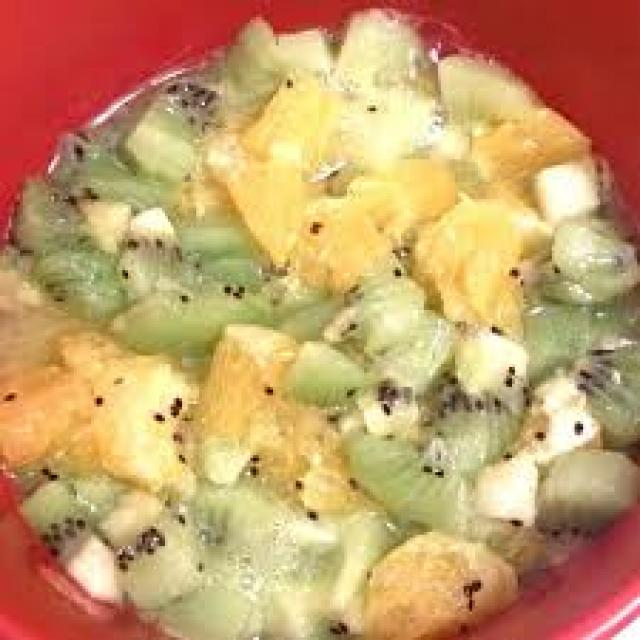organic waste: (140, 489, 342, 637), (100, 190, 284, 350), (208, 68, 324, 250), (290, 156, 455, 282), (524, 278, 638, 444), (409, 182, 524, 339), (188, 318, 296, 478), (111, 253, 270, 356), (364, 529, 515, 634), (8, 174, 122, 310), (0, 242, 119, 370), (296, 501, 404, 637), (86, 352, 196, 483), (299, 373, 418, 492), (43, 322, 134, 472), (330, 270, 452, 381), (342, 430, 472, 529), (114, 68, 222, 176), (324, 83, 464, 162), (529, 441, 637, 543), (464, 102, 594, 185), (0, 358, 91, 475), (111, 498, 208, 600), (54, 134, 182, 210), (432, 43, 538, 131), (219, 14, 333, 94), (436, 370, 524, 472), (330, 6, 435, 85), (541, 216, 637, 302), (504, 367, 592, 458), (441, 304, 523, 401), (60, 529, 134, 623), (469, 515, 586, 574), (526, 150, 612, 224), (23, 472, 102, 552), (578, 342, 637, 449), (270, 262, 347, 336), (66, 475, 156, 535), (296, 344, 364, 407), (475, 446, 532, 520)
